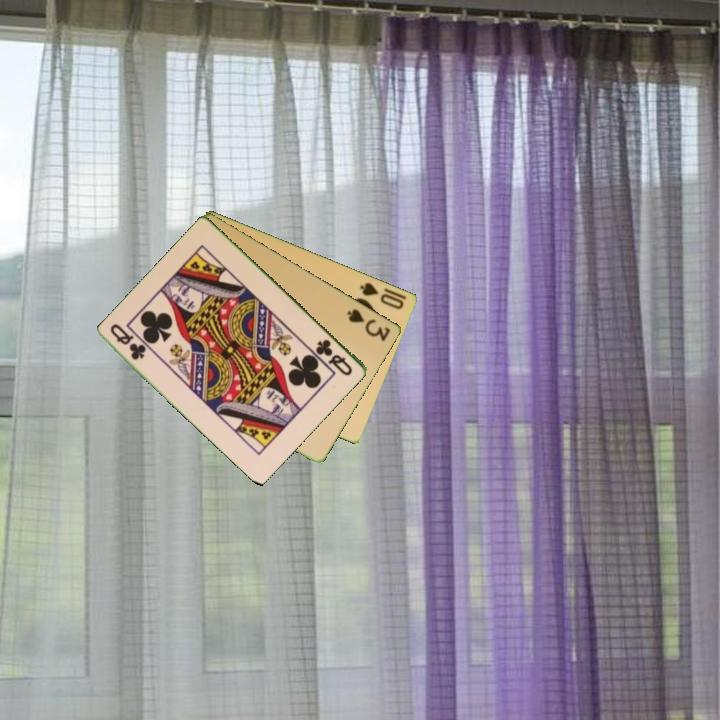10s: (356, 278, 407, 312)
3s: (344, 305, 393, 344)
Qc: (312, 336, 356, 379), (107, 320, 149, 363)
